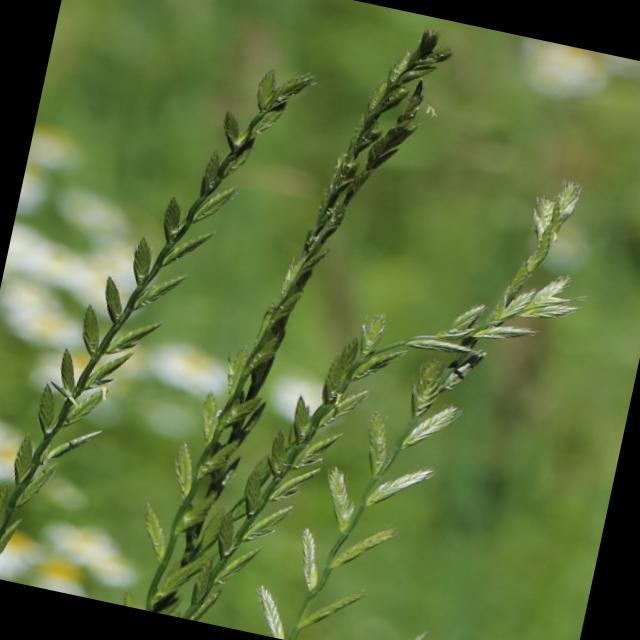Lolium: (128, 7, 469, 640), (0, 23, 319, 620), (250, 138, 595, 640), (200, 223, 583, 640)
